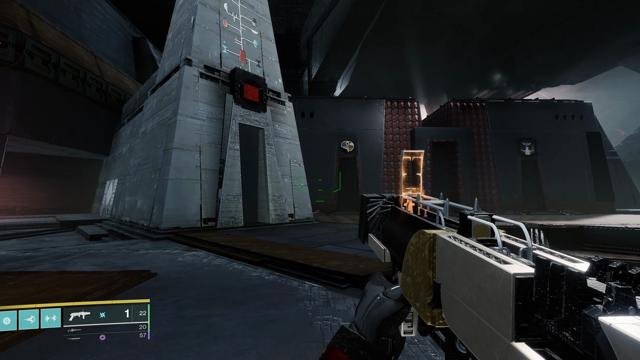brain: (339, 139, 356, 154)
drink: (519, 140, 536, 155)
stop: (239, 79, 263, 105)
